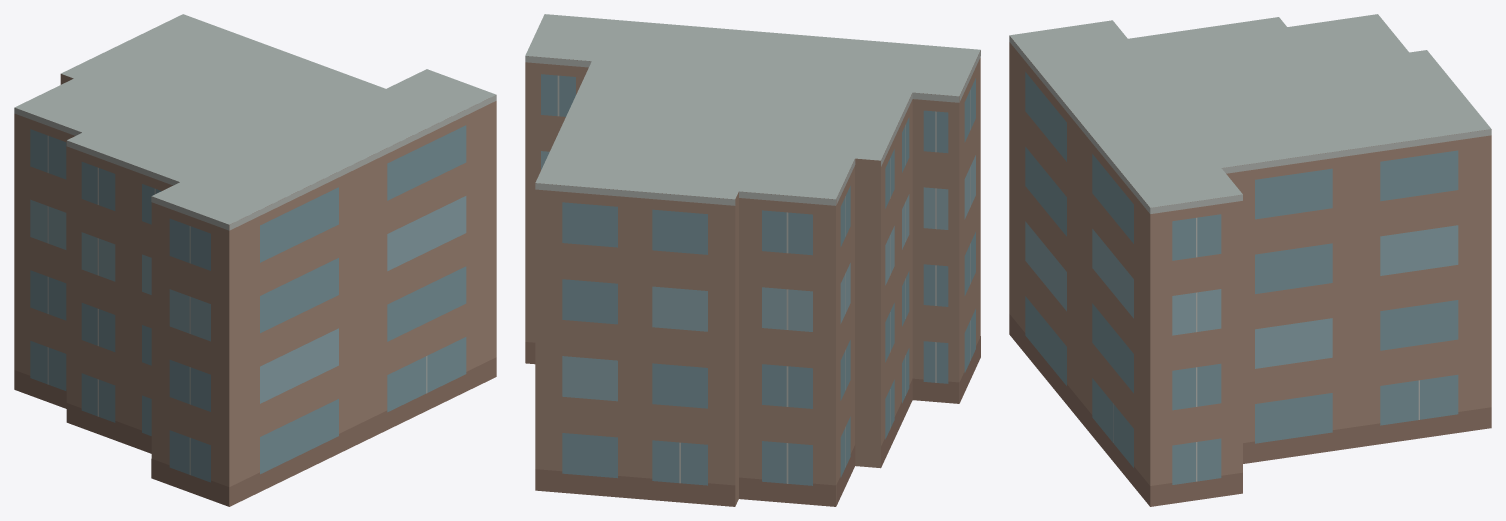
File: survey-upis-32624511.glb
3 views of the same model, side by side, from view 1: azimuth 30°, elevation 25°; view 2: azimuth 150°, elevation 25°; view 3: azimuth 270°, elevation 25° (orthographic). The views are drawn at different scales.
Parts seen in each view (by area): view 1: survey-upis-32624511.tmp; view 2: survey-upis-32624511.tmp; view 3: survey-upis-32624511.tmp.
Boxes of the visible parts, box(x1,y1,x2,y2) form: survey-upis-32624511.tmp: box(14, 14, 496, 506); survey-upis-32624511.tmp: box(525, 14, 980, 506); survey-upis-32624511.tmp: box(1009, 14, 1491, 506).
Size of the model in its own units: 16.07 by 11.55 by 16.89.
